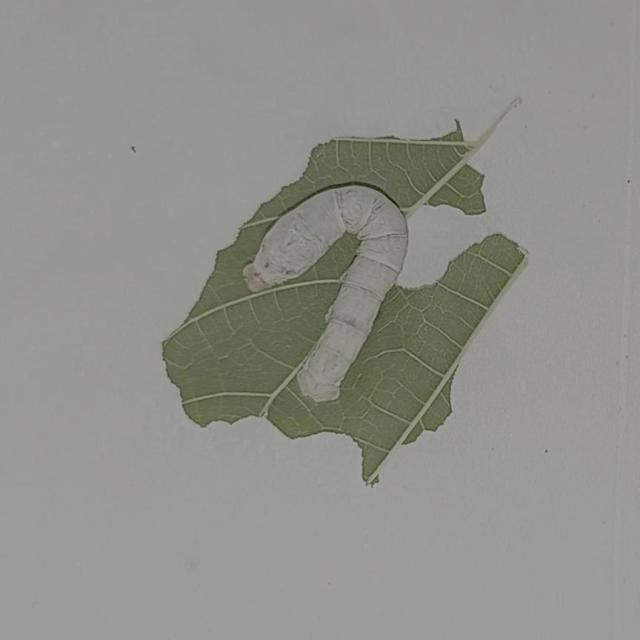Healthy: (234, 170, 453, 417)
